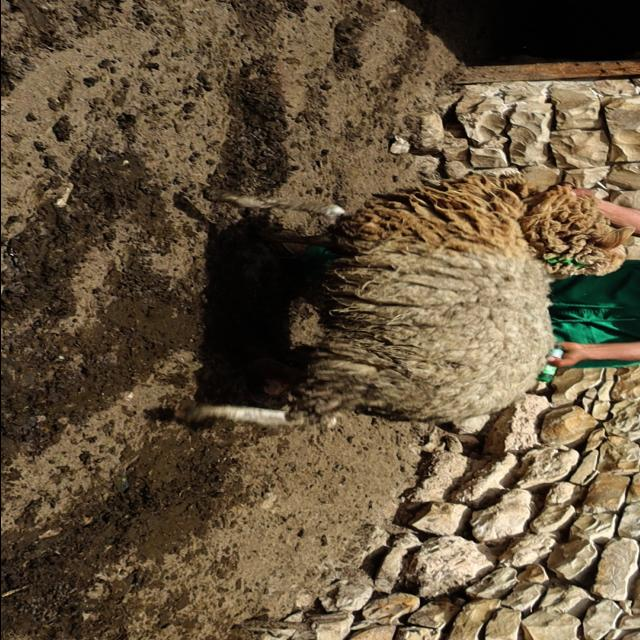Score_2: (191, 175, 632, 425)
